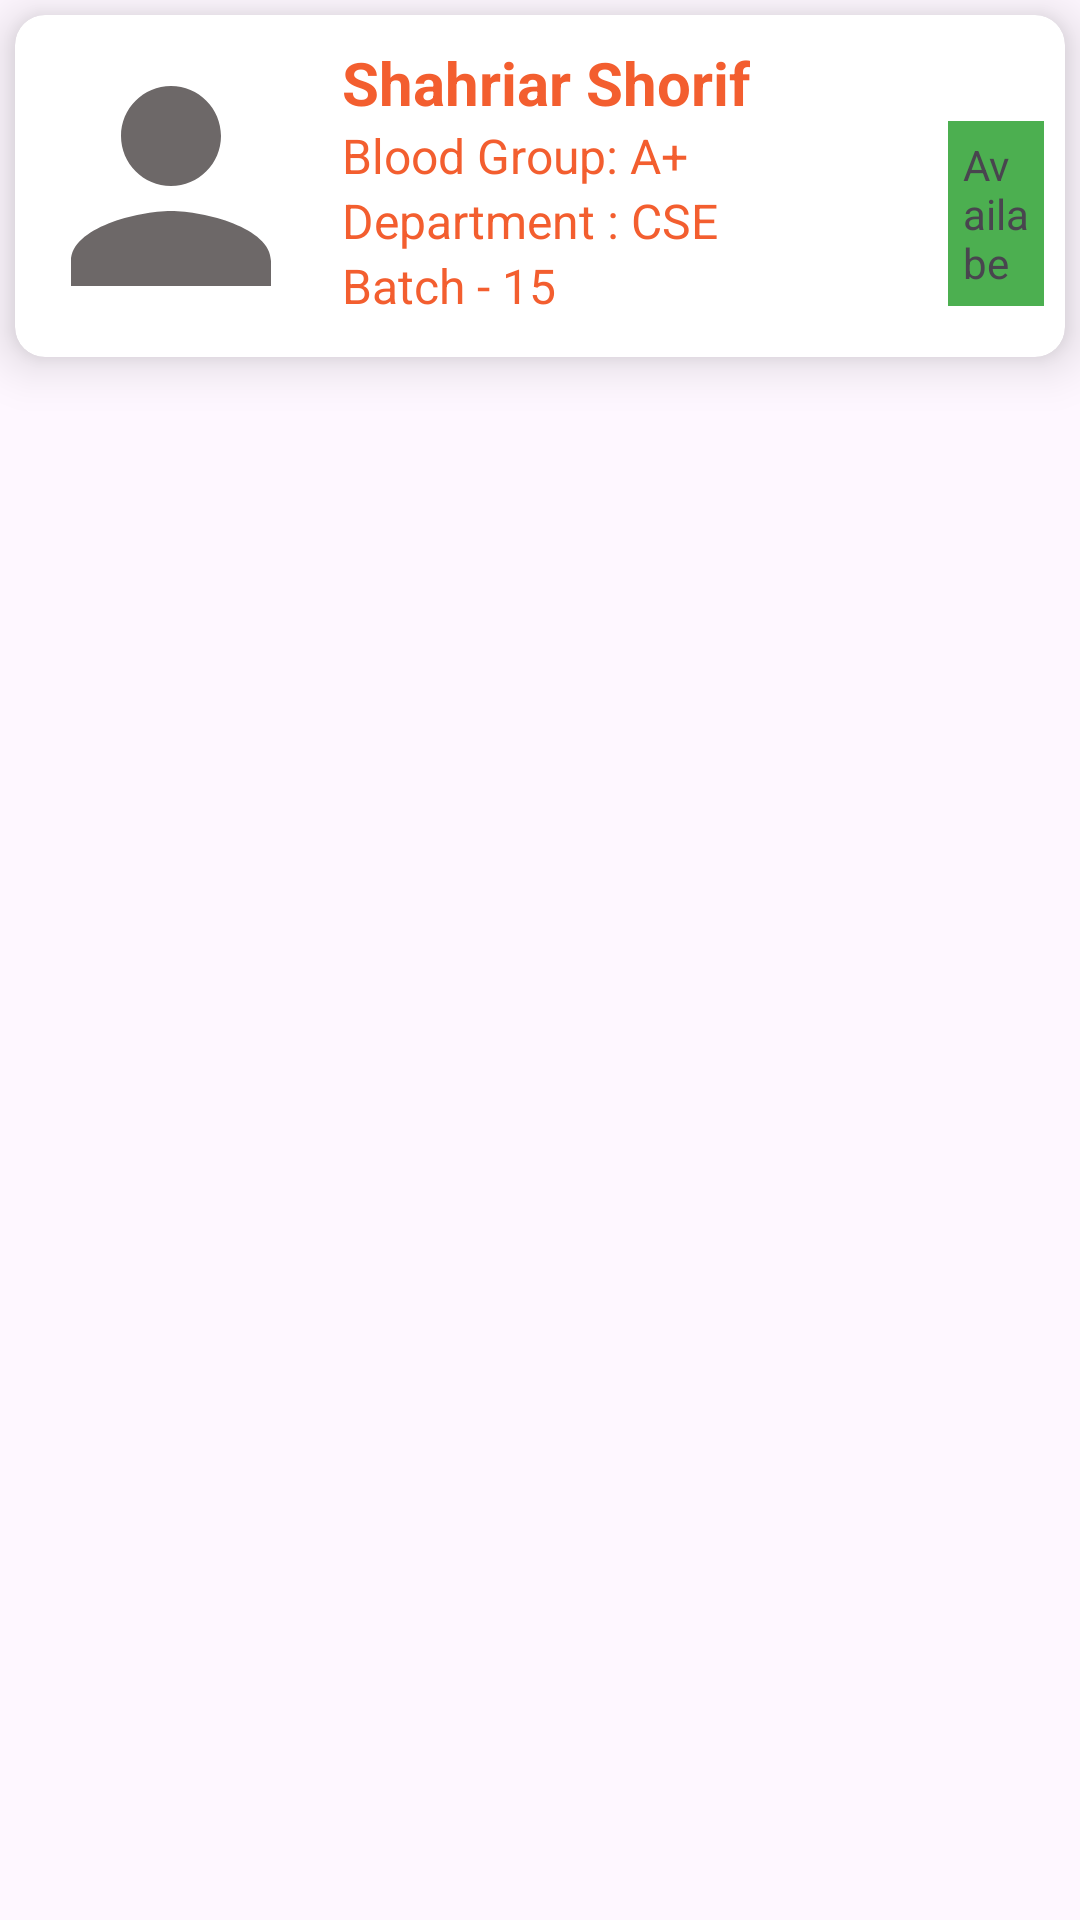

Icon bounding boxes for this 1080px x 1920px phone screenshot, format (x1, y1, x2, y2):
person: (71, 86, 271, 286)
